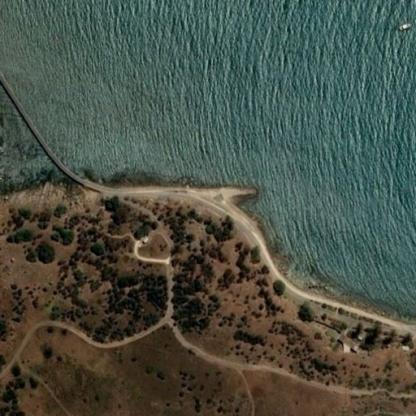ship: (394, 20, 414, 31)
